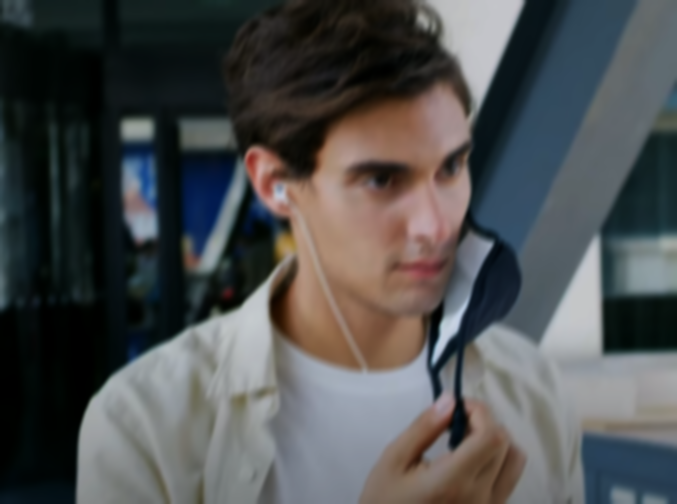mask_weared_incorrect: (230, 2, 524, 377)
